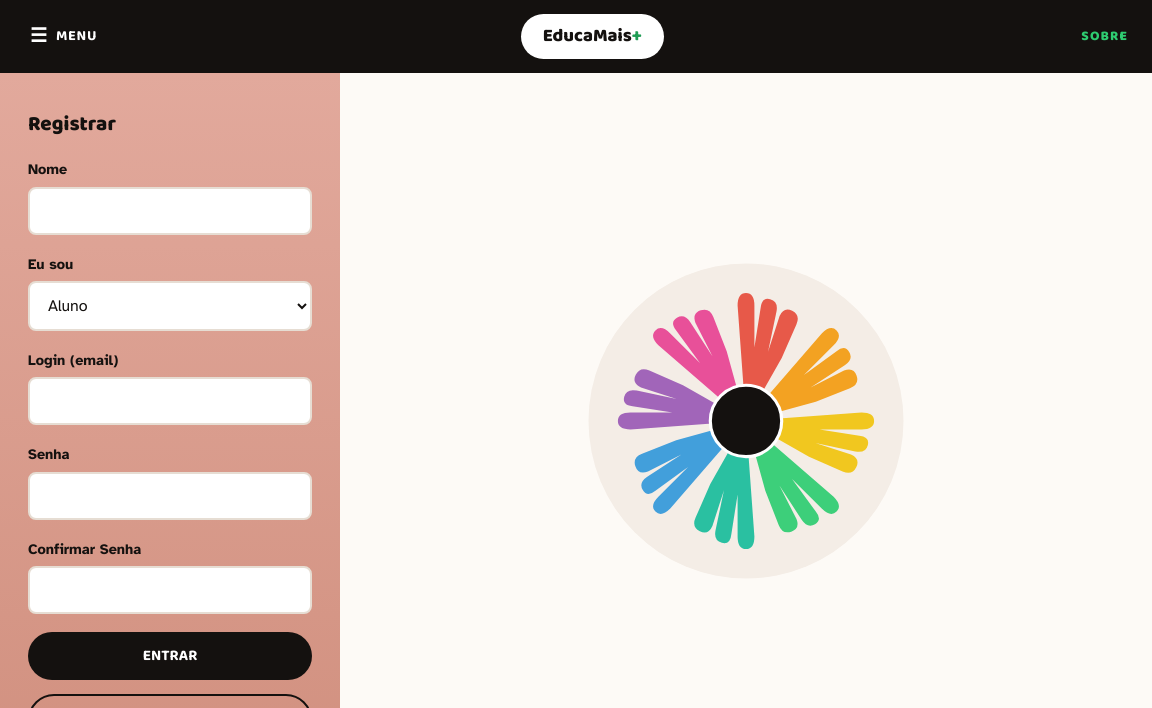
Test: Register (validação de usabilidade do formulário) › exibe a mensagem de erro vinda da API (ex: email duplicado)
Step 1. Type "Maria" into the field labelled "Nome" → (170, 211), box [28,187,312,235]
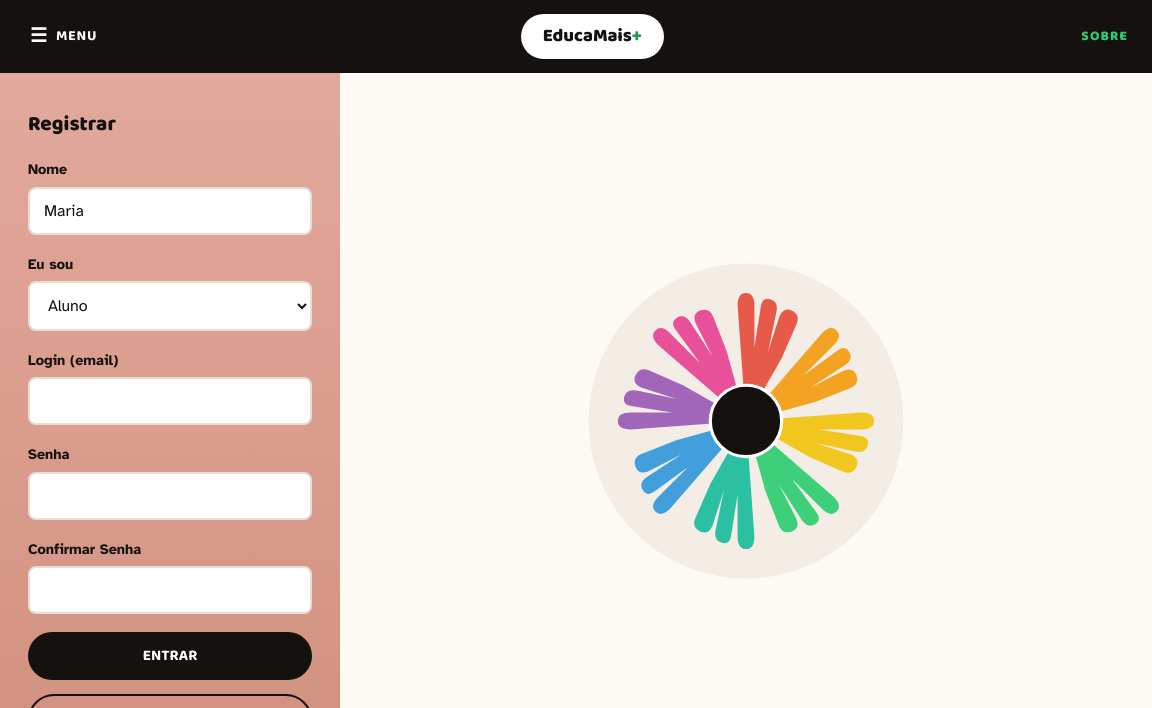
Step 2. Type "maria@teste.com" into the field labelled "Login (email)" → (170, 401), box [28,377,312,425]
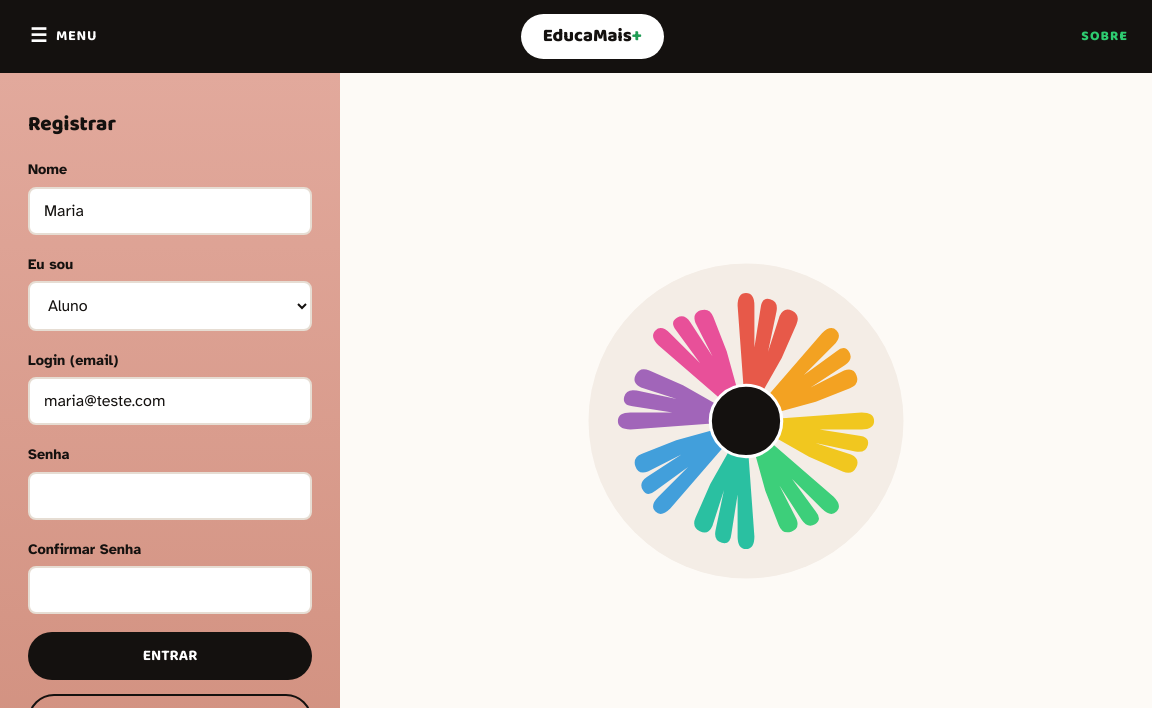
Step 3. Type "123456" into the password field labelled "Senha" → (170, 496), box [28,472,312,520]
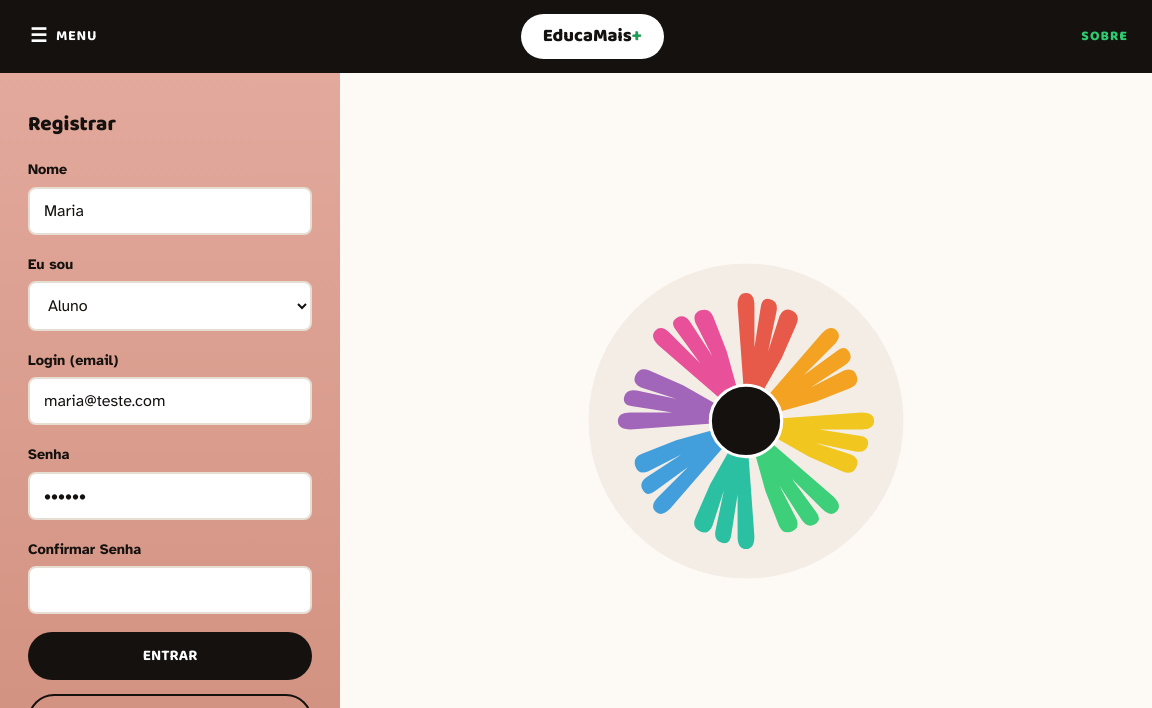
Step 4. Type "123456" into the password field labelled "Confirmar Senha" → (170, 590), box [28,566,312,614]
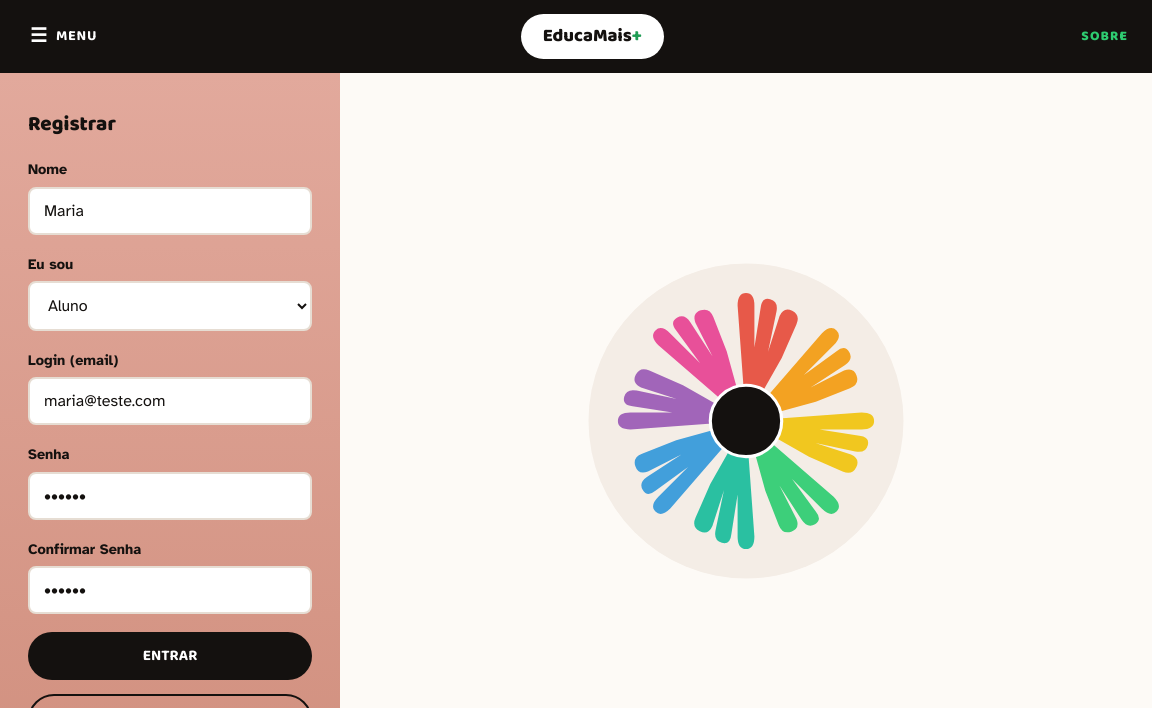
Step 5. Click the button "ENTRAR" → (170, 656), box [28,632,312,680]
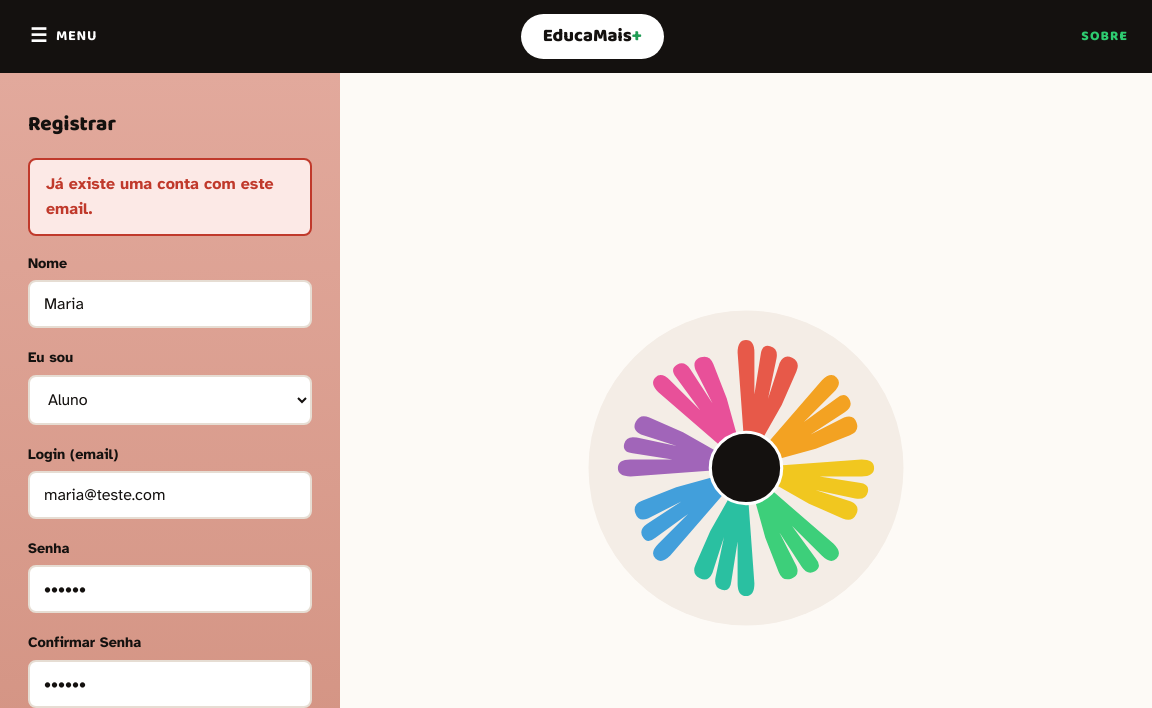
Expected: the text "Já existe uma conta com este email." is shown, [28,158,312,236]
